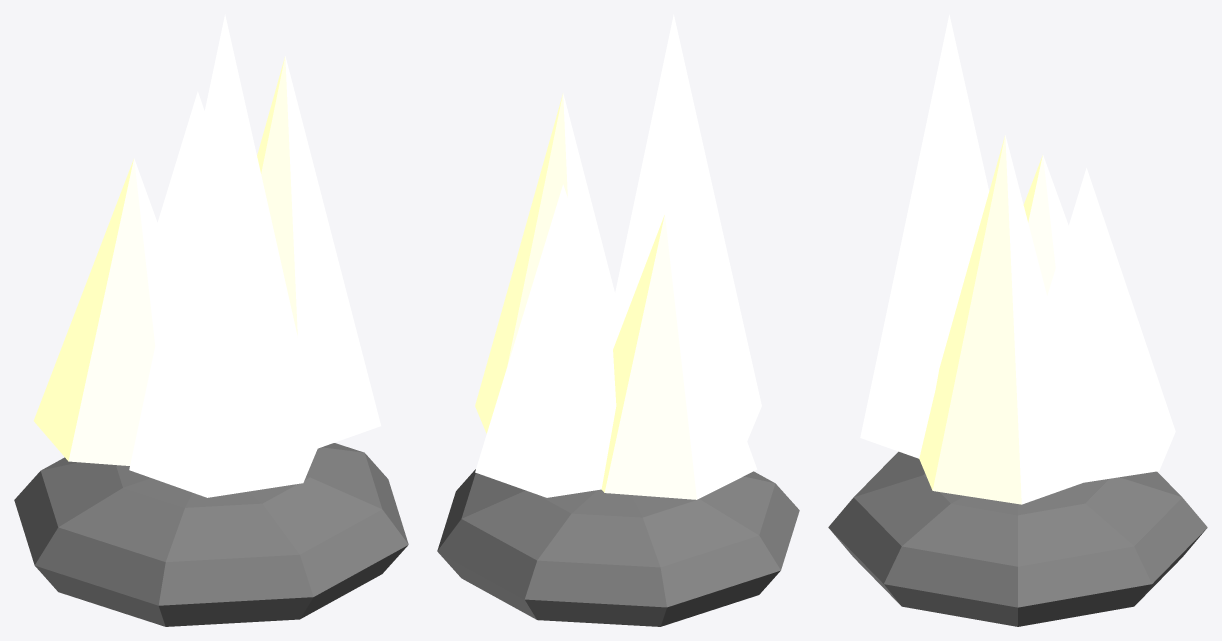
File: 4100_lumenspore.glb
The picture shows the model from 3 angles, left to right: view 1: azimuth 30°, elevation 25°; view 2: azimuth 150°, elevation 25°; view 3: azimuth 270°, elevation 25°; orthographic projection. The views are drawn at different scales.
Size of the model in its own units: 0.52 by 0.851 by 0.52.
